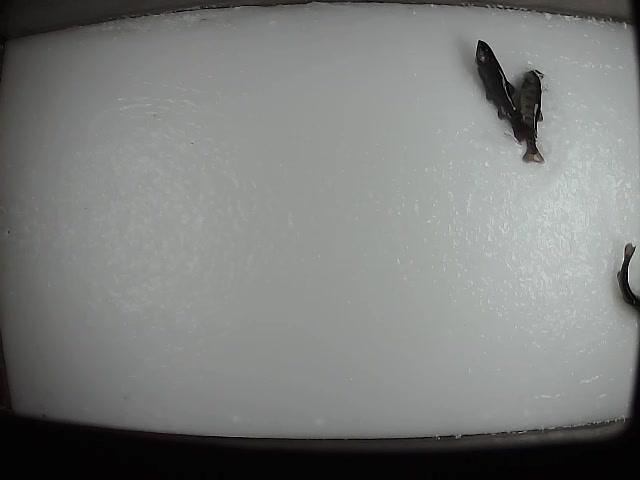Fish: (476, 41, 529, 143), (521, 70, 544, 163)
